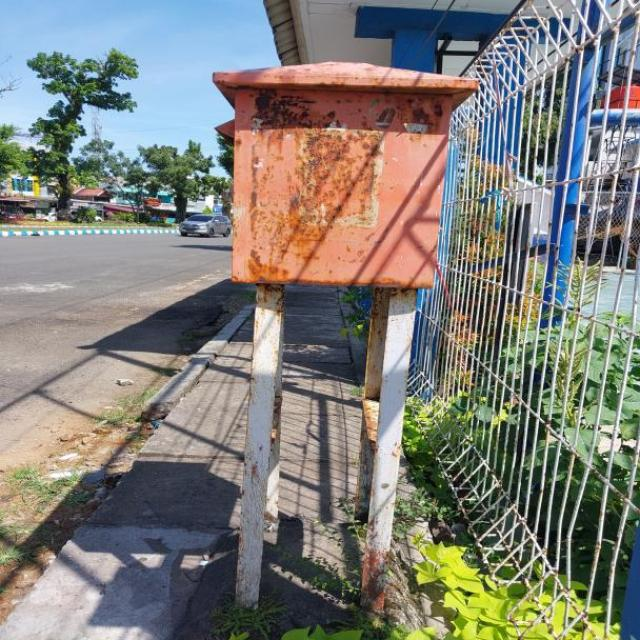barrier ahead at: (215, 62, 479, 621)
